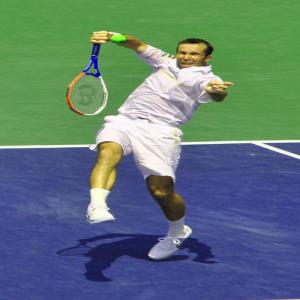TennisBall: (112, 35, 127, 45)
